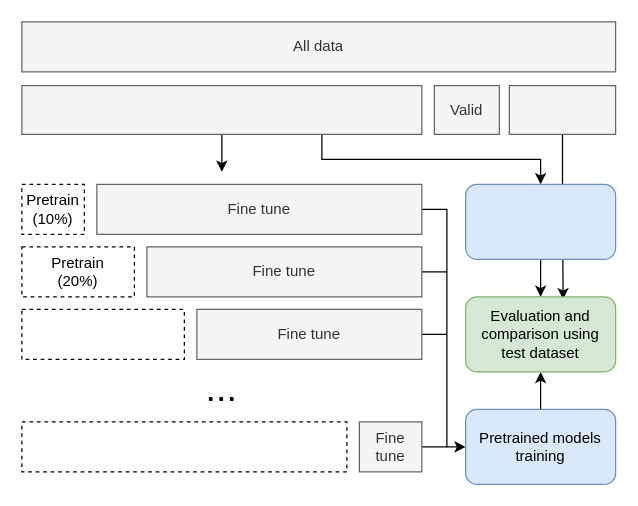
Some shapes in this 638 by 506 pixel diagram are drawn without their labels. Here are the shapes that lost their labels. From the top down, the box of each, then its label:
(21, 84, 422, 134): Train
(508, 84, 616, 134): Test
(464, 183, 616, 259): Baseline model training
(21, 308, 184, 359): Pretrain (30%)
(21, 421, 347, 472): Pretrain (90%)
